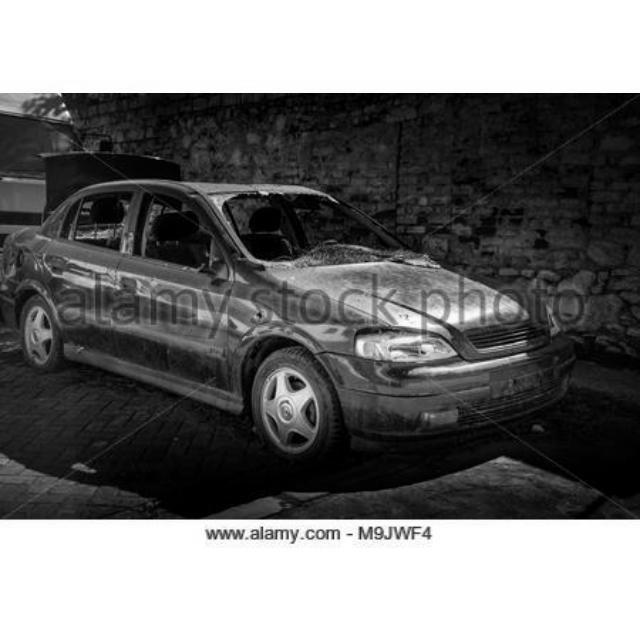Front-windscreen-damage: (179, 173, 430, 271)
